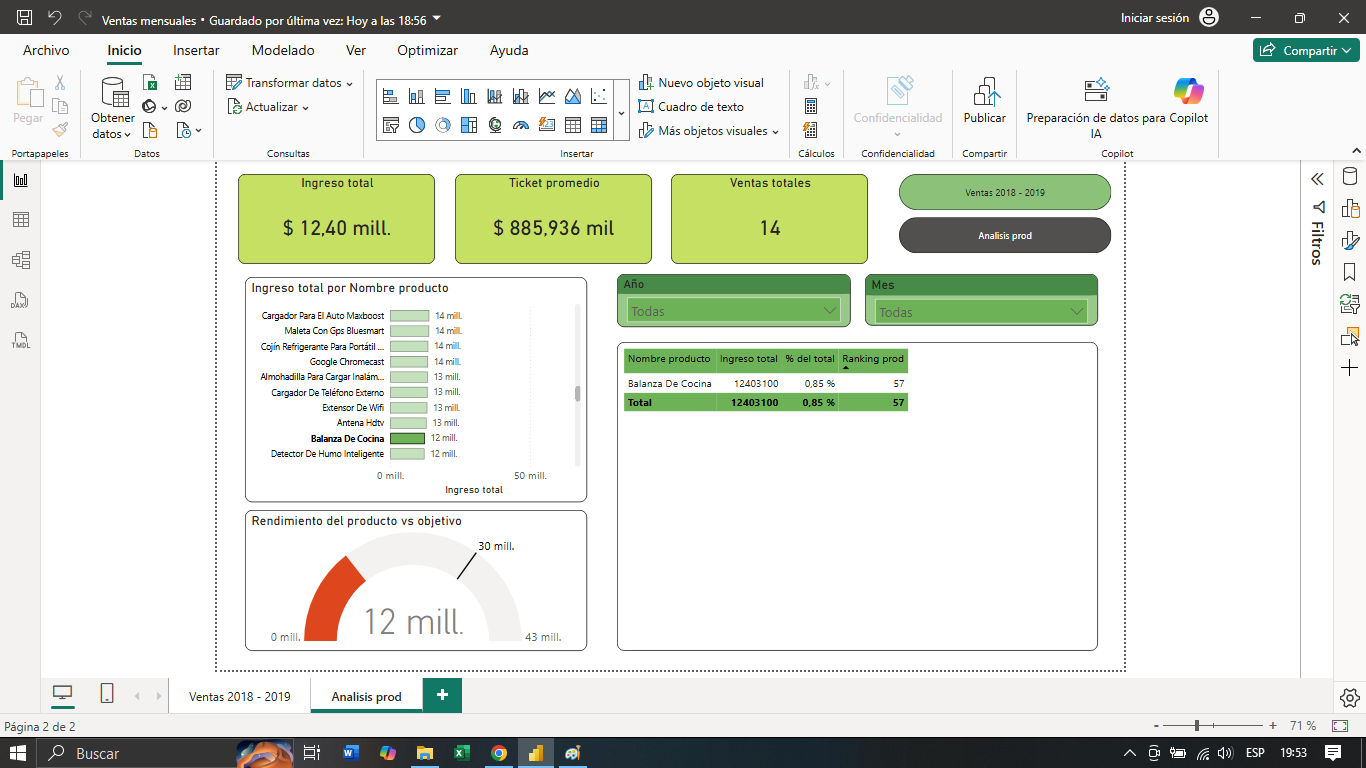

What the dashboard file says about the page in this screenshot:
{"tool":"powerbi","page":{"name":"Analisis prod","canvas":[1280,720],"ordinal":1},"visuals":[{"type":"clusteredBarChart","fields":{"Y":["Medidas.Ingreso total"],"Category":["Producto.Nombre producto"]},"box":[39.5,165.2,482.8,317.6],"z":0},{"type":"tableEx","fields":{"Values":["Producto.Nombre producto","Medidas.Ingreso total","Medidas.% del total","Medidas.Ranking prod"]},"box":[564.7,256.9,679.1,436.2],"z":1000},{"type":"card","title":"Ingreso total","fields":{"Values":["Medidas.Ingreso total"]},"box":[30,20,278.3,127],"z":2000},{"type":"card","title":"Ventas totales","fields":{"Values":["Medidas.Ventas totales"]},"box":[640.7,20,278.3,127],"z":3000},{"type":"card","title":"Ticket promedio","fields":{"Values":["Medidas.Ticket promedio"]},"box":[335.3,20,278.3,127],"z":4000},{"type":"gauge","title":"Rendimiento del producto vs objetivo","fields":{"Y":["Medidas.Ingreso total"],"MinValue":["Medidas.Minimo medidor"],"MaxValue":["Medidas.Maximo medidor"],"TargetValue":["Medidas.Objetivo medidor"]},"box":[39.5,494.1,482.8,199.1],"z":5000},{"type":"pageNavigator","box":[962.8,19.8,300.7,112.9],"z":6000},{"type":"slicer","title":"Año","fields":{"Values":["Calendario.Año"]},"box":[564.7,160.9,330.4,74.8],"z":6001},{"type":"slicer","title":"Mes","fields":{"Values":["Calendario.Nombre del mes"]},"box":[914.8,160.9,328.9,73.4],"z":6002}]}

Visuals, with their boxes on the page's 1280x720 design canvas (x1, y1, x2, y2). These are canvas units, not pixel positions in the 1366x768 screenshot, which may show the page scaled, cropped or inside an application window:
clusteredBarChart - Medidas.Ingreso total x Producto.Nombre producto: <region>40, 165, 522, 483</region>
tableEx - Producto.Nombre producto x Medidas.Ingreso total: <region>565, 257, 1244, 693</region>
"Ingreso total" card: <region>30, 20, 308, 147</region>
"Ventas totales" card: <region>641, 20, 919, 147</region>
"Ticket promedio" card: <region>335, 20, 614, 147</region>
"Rendimiento del producto vs objetivo" gauge: <region>40, 494, 522, 693</region>
pageNavigator: <region>963, 20, 1264, 133</region>
"Año" slicer: <region>565, 161, 895, 236</region>
"Mes" slicer: <region>915, 161, 1244, 234</region>
